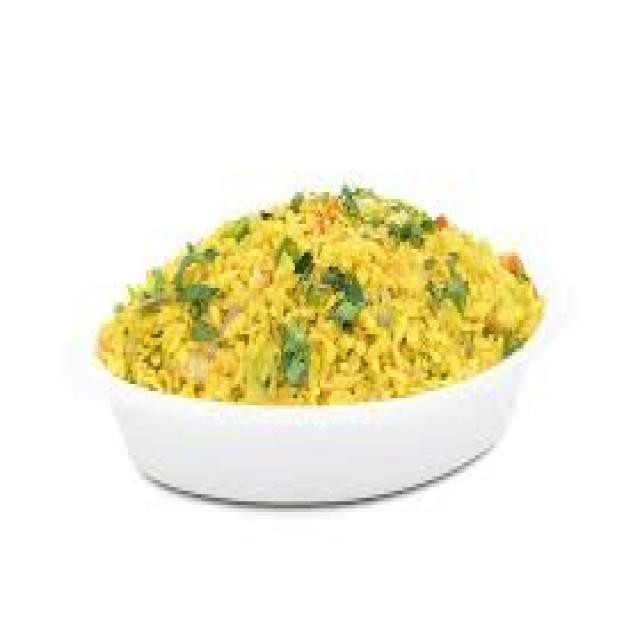POHA: (99, 188, 544, 403)
